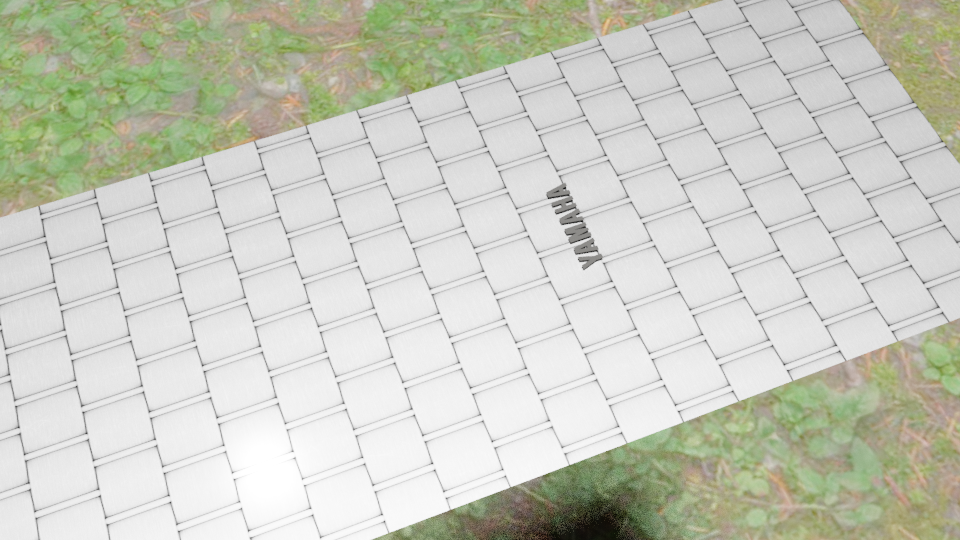yamaha_letters: (545, 181, 603, 269)
